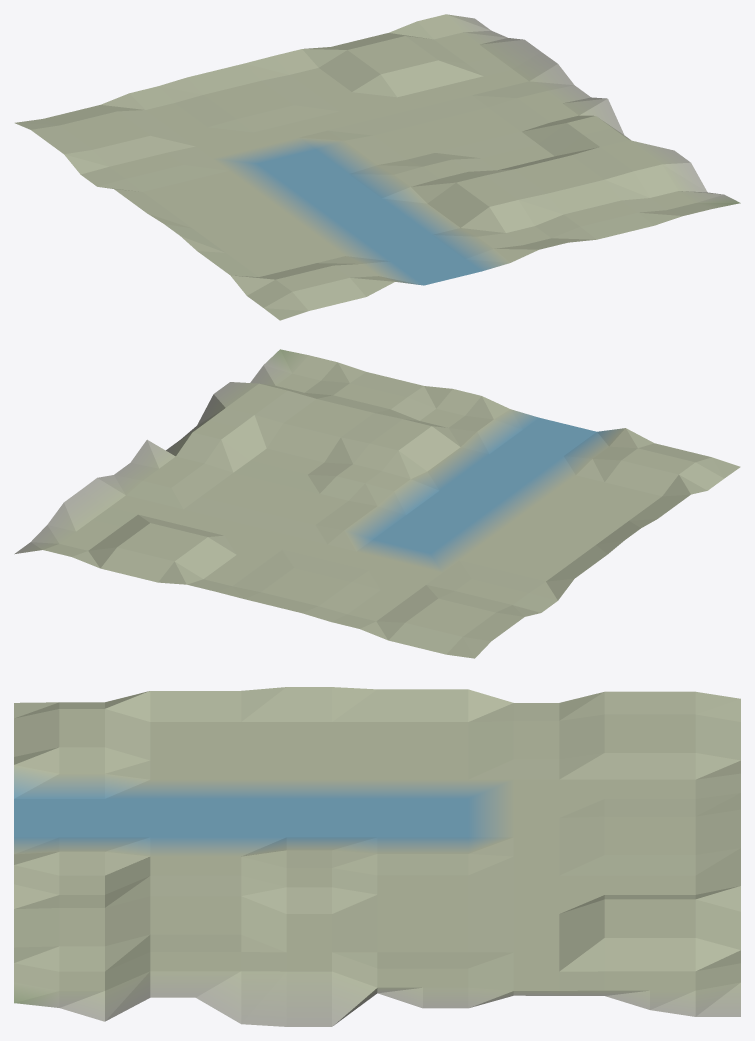
3 views of the same model, one above another, from view 1: azimuth 30°, elevation 25°; view 2: azimuth 150°, elevation 25°; view 3: azimuth 270°, elevation 25° (orthographic). The views are drawn at different scales.
Bounding box in the file's own units: 32 × 1.77 × 32.
